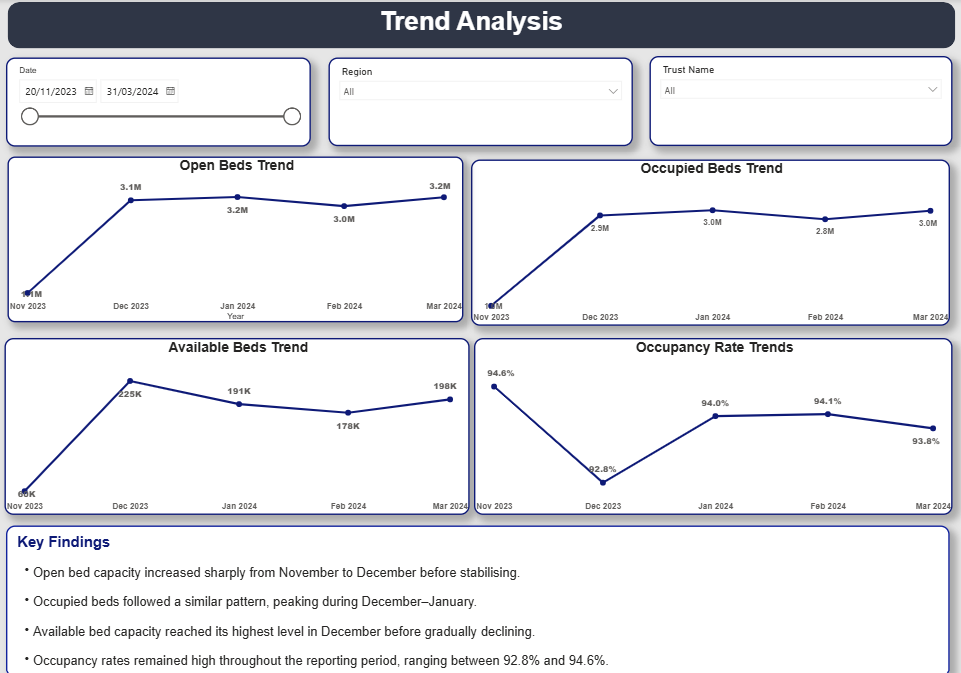

Layout of this report page (visuals, bound fields, positions):
{"tool":"powerbi","page":{"name":"Trends Analysis","canvas":[1400,980],"ordinal":3},"visuals":[{"type":"shape","box":[19.5,4.3,1368.3,67.1],"z":0},{"type":"textbox","box":[88.6,4.4,1200.6,66.5],"z":1000},{"type":"slicer","fields":{"Values":["fct_Hospital_Beds.Date"]},"box":[17.7,84.2,440,128.5],"z":2000},{"type":"slicer","fields":{"Values":["fct_Hospital_Beds.Region"]},"box":[474.1,84.2,438.6,128.5],"z":3000},{"type":"slicer","fields":{"Values":["fct_Hospital_Beds.Trust Name"]},"box":[946.1,82.3,437.3,129.9],"z":4000},{"type":"lineChart","title":"Available Beds Trend","fields":{"Y":["Calculated Measures.Available Beds"],"Category":["fct_Hospital_Beds.Date.Variation.Date Hierarchy.Year","fct_Hospital_Beds.Date.Variation.Date Hierarchy.Month"]},"box":[15.2,489.3,671.1,255.5],"z":5000},{"type":"lineChart","title":"Occupied Beds Trend","fields":{"Y":["Calculated Measures.Occupied Beds"],"Category":["fct_Hospital_Beds.Date.Variation.Date Hierarchy.Year","fct_Hospital_Beds.Date.Variation.Date Hierarchy.Month"]},"box":[688.9,232.6,691.1,240],"z":6000},{"type":"lineChart","title":"Open Beds Trend","fields":{"Y":["Calculated Measures.Open Beds"],"Category":["fct_Hospital_Beds.Date.Variation.Date Hierarchy.Year","fct_Hospital_Beds.Date.Variation.Date Hierarchy.Month"]},"box":[19.9,228.2,657.9,239.2],"z":7000},{"type":"lineChart","title":"Occupancy Rate Trends","fields":{"Y":["Calculated Measures.Occupancy Rate"],"Category":["fct_Hospital_Beds.Date.Variation.Date Hierarchy.Year","fct_Hospital_Beds.Date.Variation.Date Hierarchy.Month"]},"box":[692.8,489.3,690.6,255.5],"z":8000},{"type":"textbox","box":[17.7,759.8,1362.3,212.7],"z":9000}]}

Visuals, with their boxes in screenshot pixels (x1, y1, x2, y2), scaled from the page's 1400x980 canvas onto the 961x673 screenshot:
shape: (13,3,953,49)
textbox: (61,3,885,49)
slicer - fct_Hospital_Beds.Date: (12,58,314,146)
slicer - fct_Hospital_Beds.Region: (325,58,627,146)
slicer - fct_Hospital_Beds.Trust Name: (649,57,950,146)
"Available Beds Trend" lineChart: (10,336,471,511)
"Occupied Beds Trend" lineChart: (473,160,947,325)
"Open Beds Trend" lineChart: (14,157,465,321)
"Occupancy Rate Trends" lineChart: (476,336,950,511)
textbox: (12,522,947,668)
